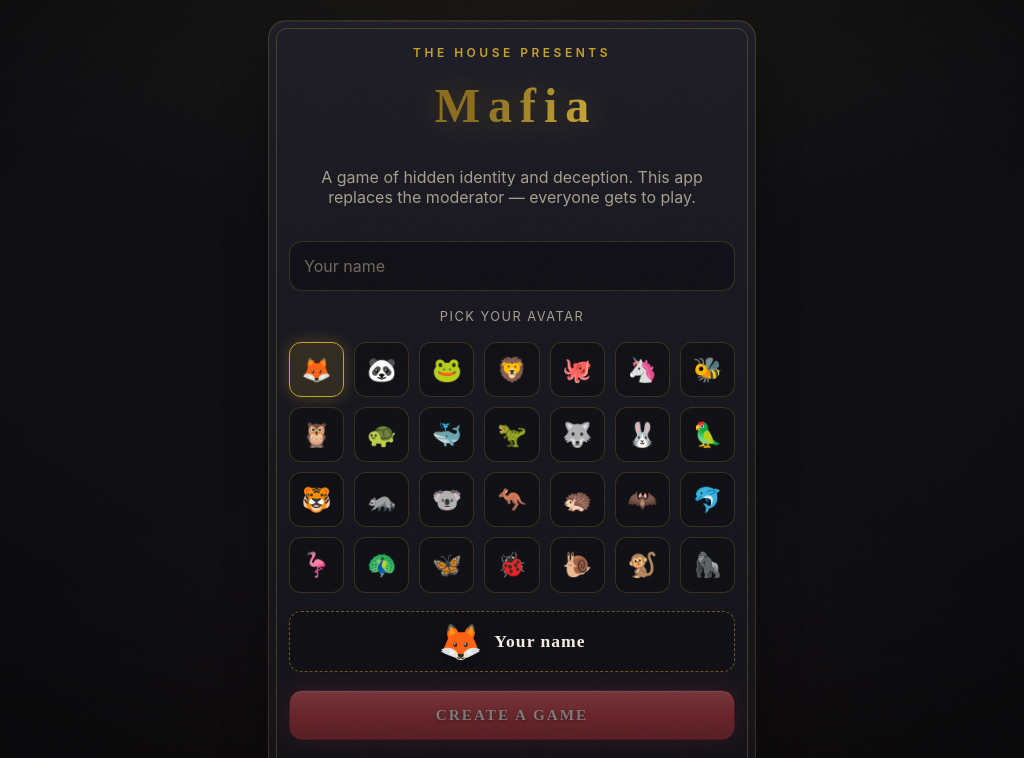
Home › previews the chosen name and avatar live
Expected: the element showing "🦊 Your name" is shown, [289,611,735,672]
Type "Sam" into the field with placeholder "Your name" at (512, 266), box [289,241,735,291]
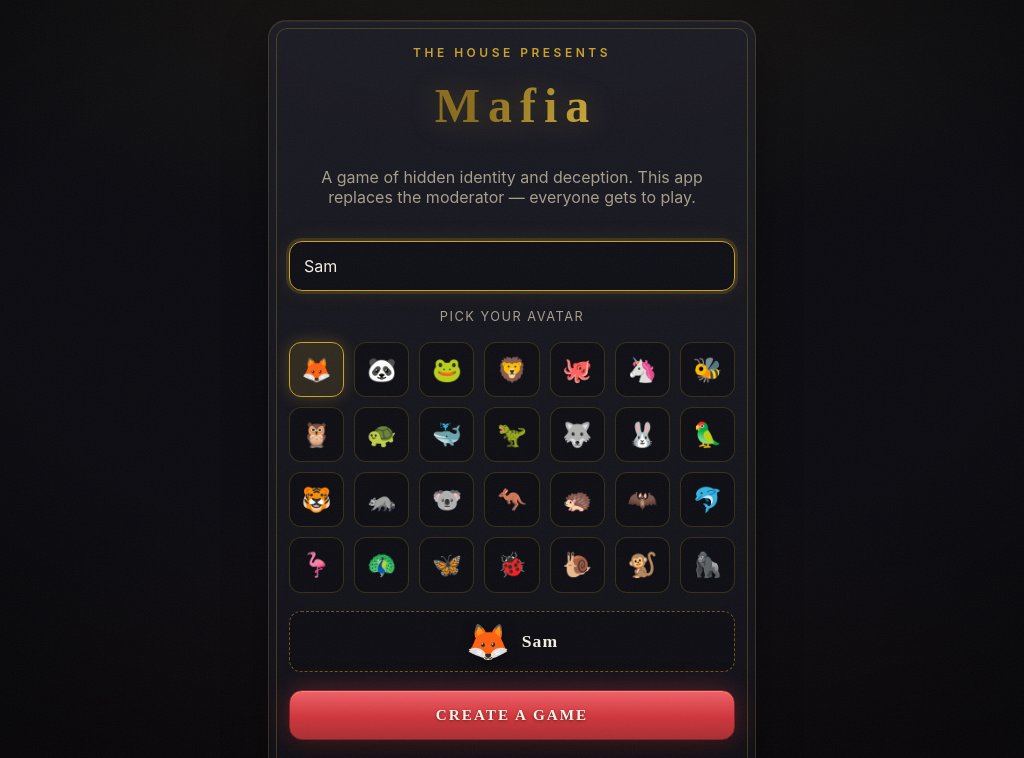
Now the element showing "🦊 Sam" is shown, box [289,611,735,672]
Click the button named "avatar 🐸" at (447, 370), box [419,342,474,397]
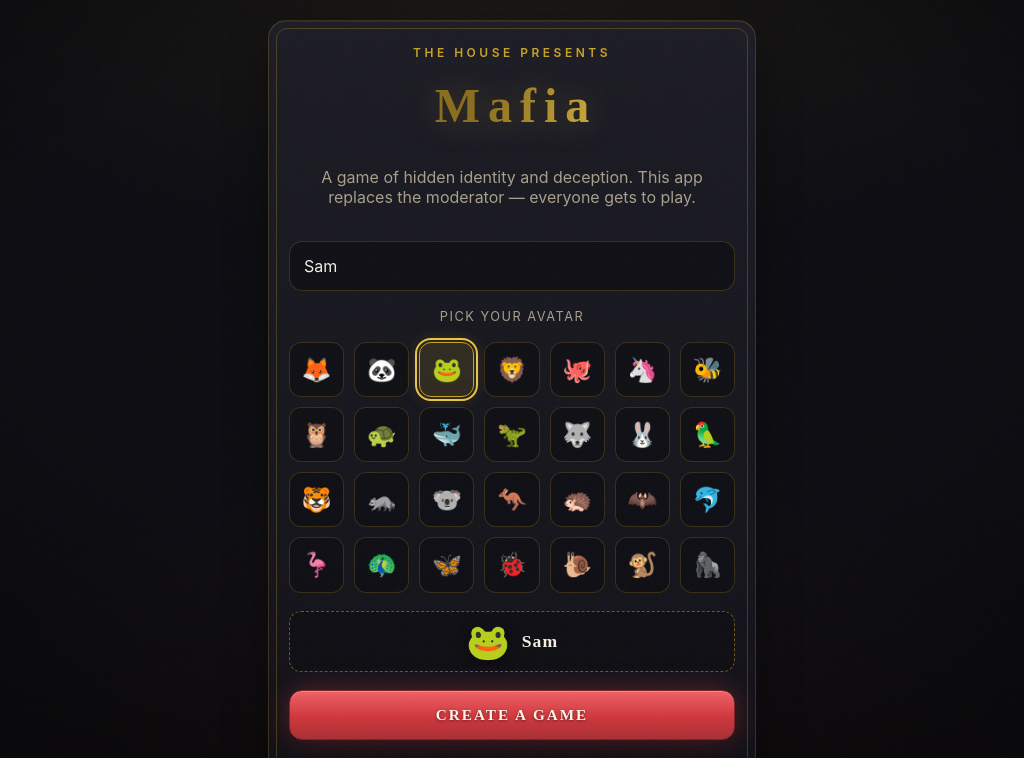
Now the element showing "🐸 Sam" is shown, box [289,611,735,672]
